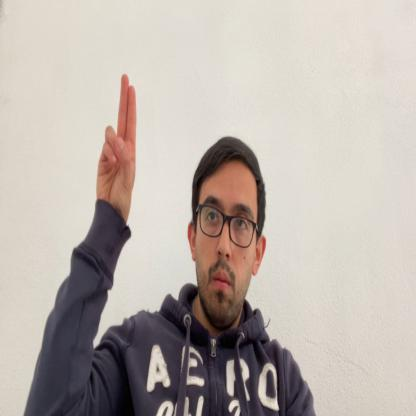U: (96, 73, 137, 221)
